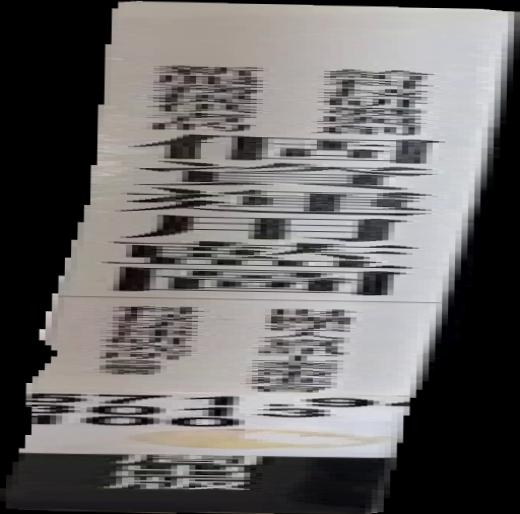book: (1, 1, 520, 514)
